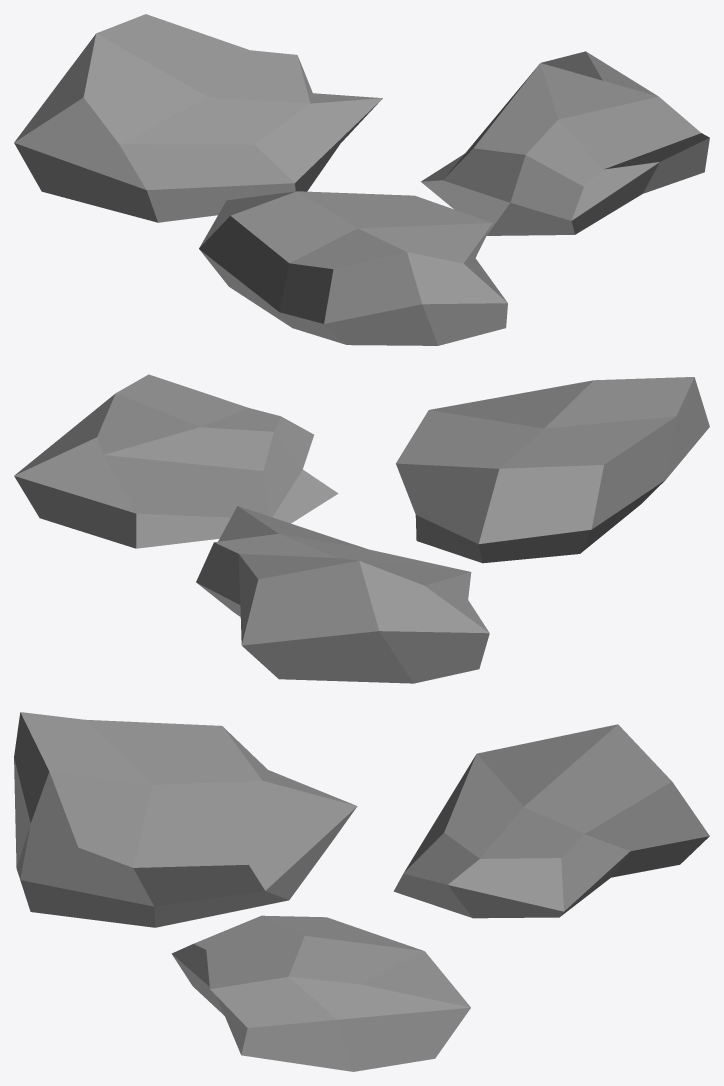
The model's file is block2.fbx.
3 renders of one model, top to bottom at view 1: azimuth 30°, elevation 25°; view 2: azimuth 150°, elevation 25°; view 3: azimuth 270°, elevation 25°, orthographic. The views are drawn at different scales.
Visible parts, largest first — view 1: Cube.003; view 2: Cube.003; view 3: Cube.003.
Part boxes in pixels (x1,y1,x2,y2): Cube.003: [14, 14, 709, 345]; Cube.003: [14, 374, 709, 683]; Cube.003: [14, 712, 709, 1071].
Bounding box in the file's own units: 349 × 74.48 × 358.
